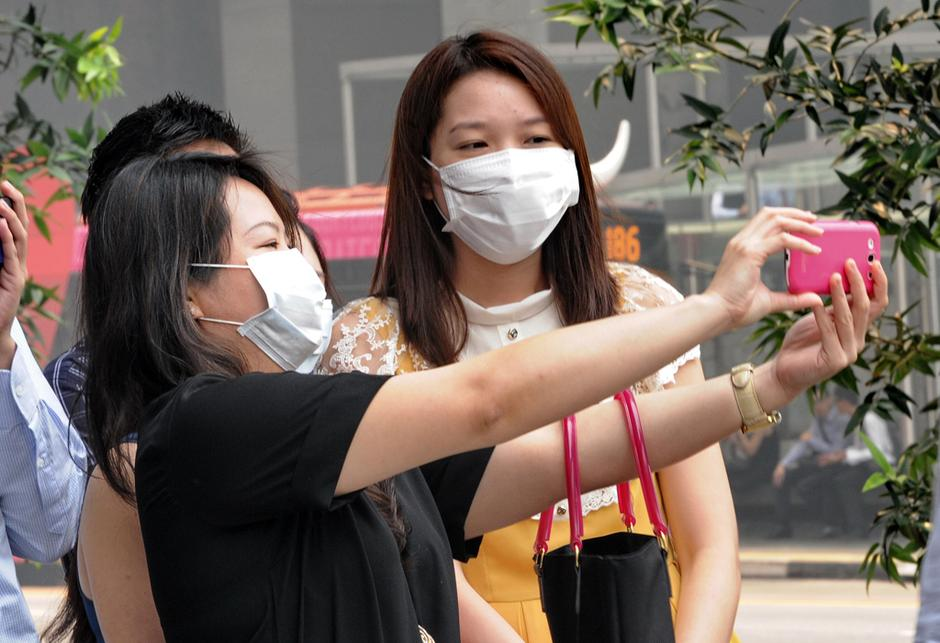face_mask: (437, 74, 578, 269), (203, 203, 326, 368)
